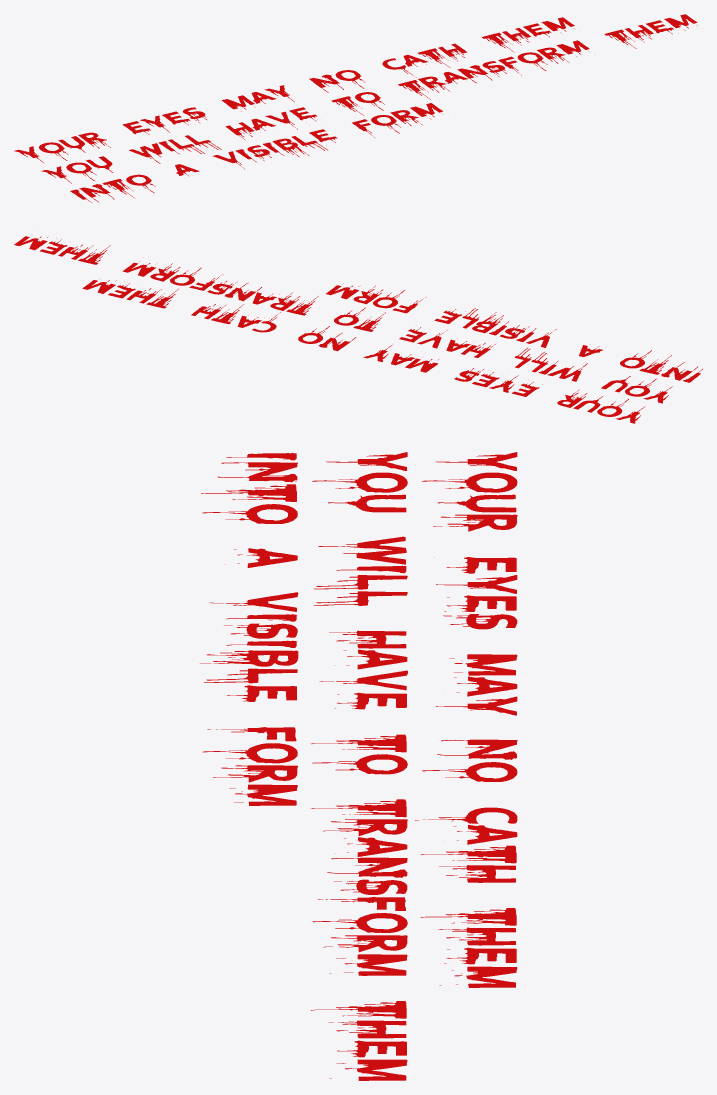
3 views of the same model, one above another, from view 1: azimuth 30°, elevation 25°; view 2: azimuth 150°, elevation 25°; view 3: azimuth 270°, elevation 25° (orthographic). The views are drawn at different scales.
Visible parts, largest first — view 1: Text; view 2: Text; view 3: Text.
Boxes of the visible parts, box(x1,y1,x2,y2) form: Text: box(14, 14, 697, 202); Text: box(14, 235, 702, 423); Text: box(200, 452, 517, 1080).
Size of the model in its own units: 1355 by 4.72e-05 by 290.
